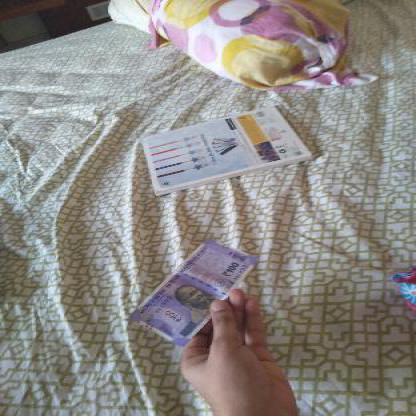New100Front: (128, 239, 257, 341)
